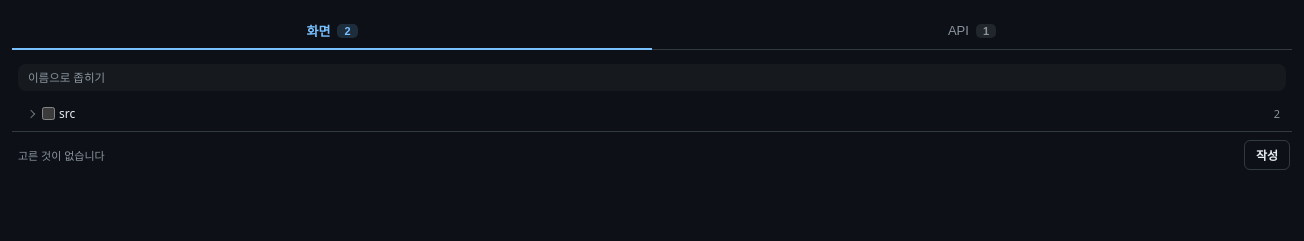
Test: 탭을 넘나들며 고른 것 › 앞 탭의 선택이 풀리지 않는다
Click the button named "펼치기": (31, 114) left=24, top=106, right=38, bottom=120
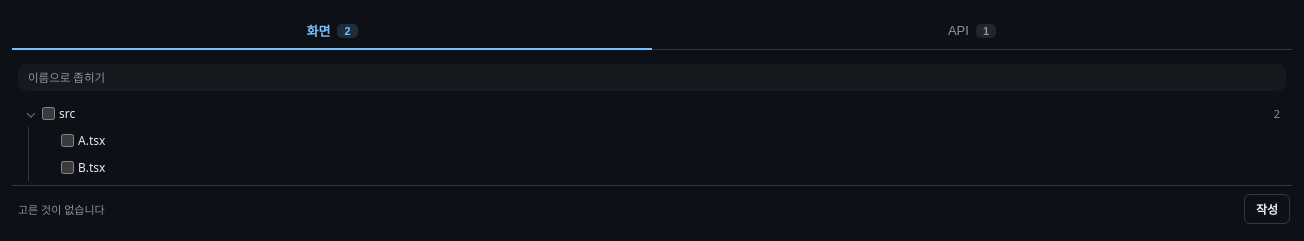
Click the checkbox named "A.tsx": (68, 140) left=61, top=134, right=74, bottom=147
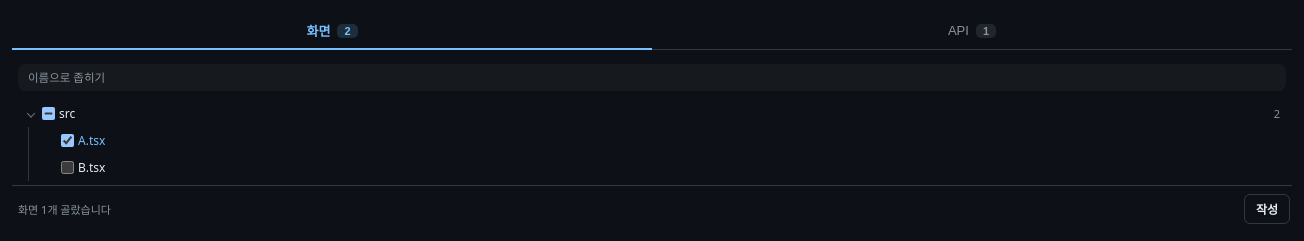
Click the tab "API 1": (958, 30) left=652, top=14, right=1292, bottom=50
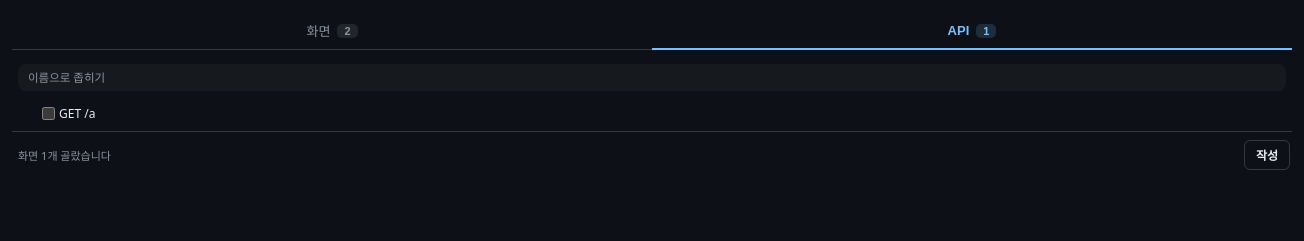
Click the tab "화면 2": (332, 32) left=12, top=14, right=652, bottom=50
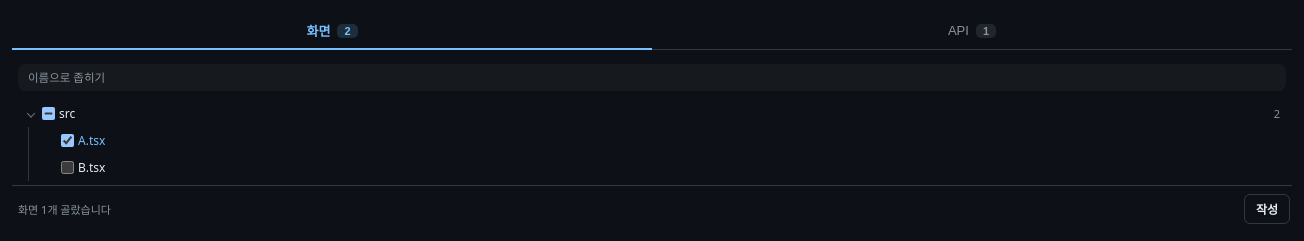
Expected: the checkbox named "A.tsx" is checked, left=61, top=134, right=74, bottom=147
